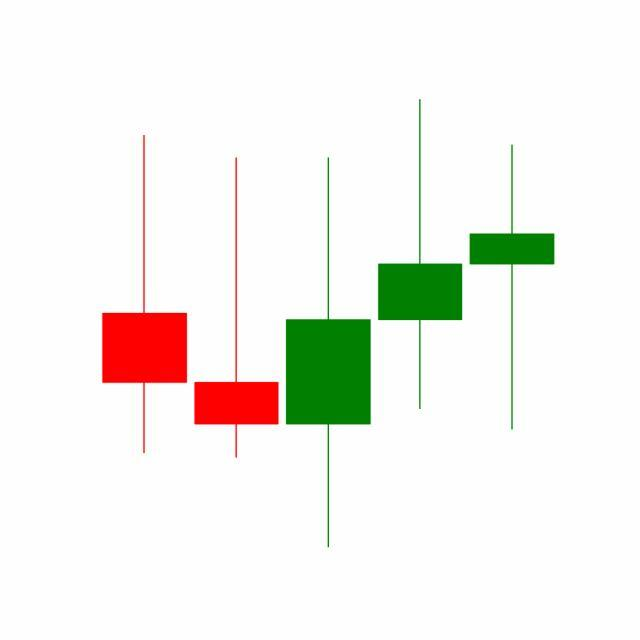Spinning Top: (466, 143, 559, 435)
